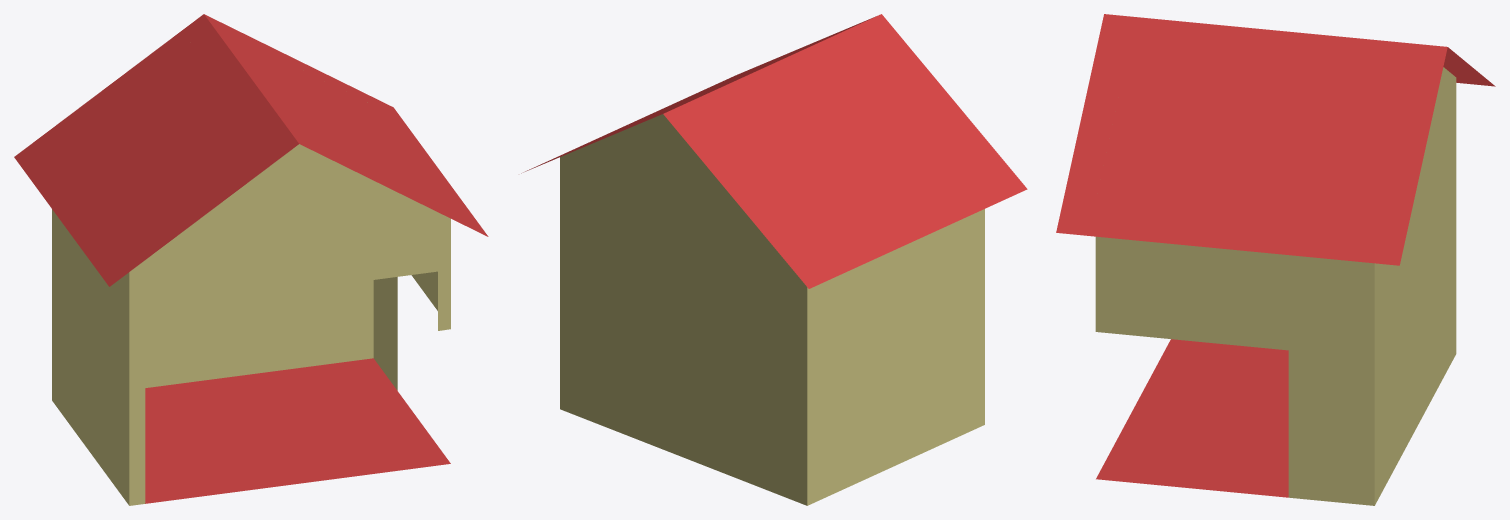
3 renders of one model, left to right at view 1: azimuth 30°, elevation 25°; view 2: azimuth 150°, elevation 25°; view 3: azimuth 270°, elevation 25°, orthographic. The views are drawn at different scales.
Parts seen in each view (by area): view 1: group_5, group_3, group_6, group_4; view 2: group_5, group_3, group_4; view 3: group_5, group_3, group_4, group_6.
Boxes of the visible parts, bbox=[...] form: group_5: bbox=[52, 102, 450, 505]; group_3: bbox=[14, 14, 450, 286]; group_6: bbox=[145, 358, 450, 503]; group_4: bbox=[20, 14, 488, 286]; group_5: bbox=[560, 114, 984, 505]; group_3: bbox=[566, 14, 1027, 288]; group_4: bbox=[521, 15, 1026, 285]; group_5: bbox=[1095, 67, 1456, 505]; group_3: bbox=[1073, 17, 1488, 263]; group_4: bbox=[1056, 14, 1495, 265]; group_6: bbox=[1096, 339, 1288, 497].
Size of the model in its own units: 15.14 by 13.27 by 12.86.
